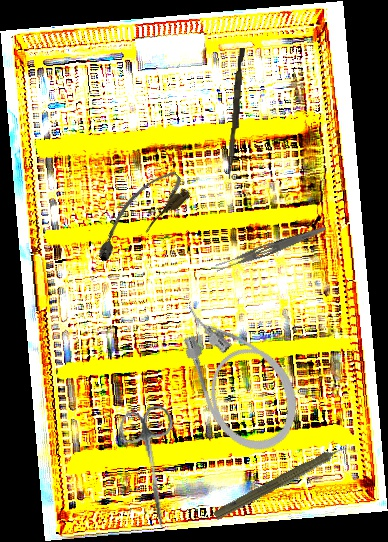Cannula: (162, 281, 315, 466), (82, 163, 195, 269)
Dressing Forceps: (213, 221, 328, 275)
Handpiece: (211, 436, 359, 526)
Iris Scissors: (116, 403, 191, 533)
Pusher: (226, 47, 246, 180)
